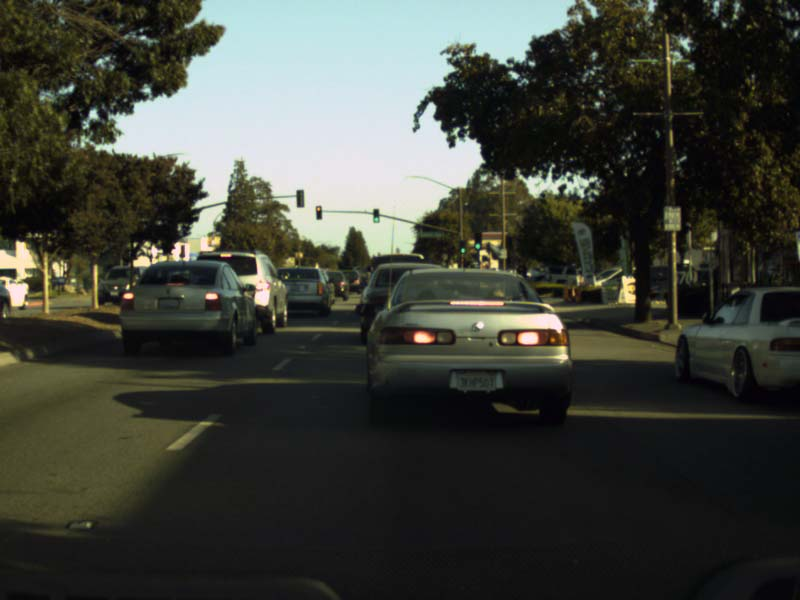Green: (474, 232, 481, 249), (372, 207, 379, 222), (458, 240, 466, 253)
Red: (315, 205, 322, 220)
